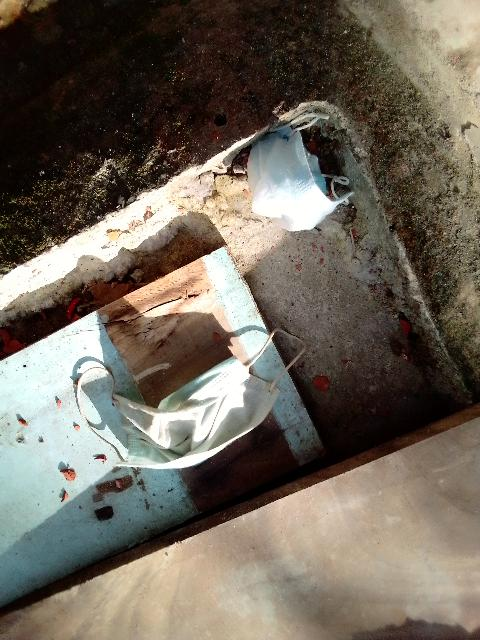mask: (109, 364, 289, 468)
